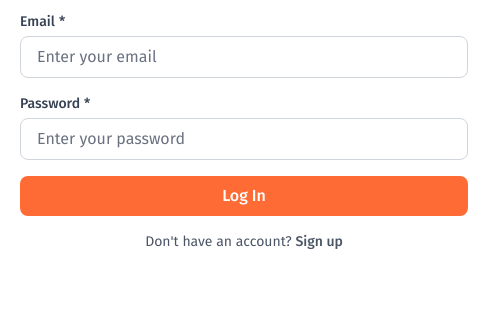
Test: LoginForm Component › Error Handling › should clear general error when user submits again
First submission - fails
Type "test@example.com" into the field labelled "Email*" at (244, 57), box [20,36,468,78]
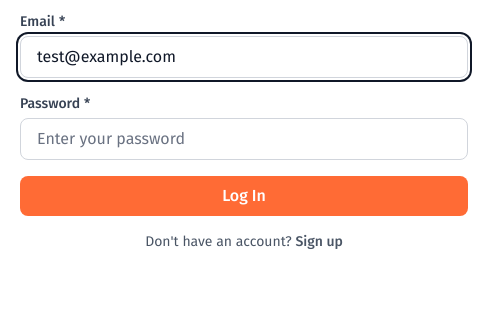
Type "password123" into the password field labelled "Password*" at (244, 139), box [20,118,468,160]
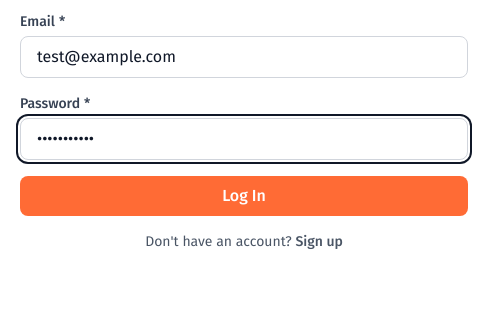
Click the button "Log In" at (244, 196), box [20,176,468,216]
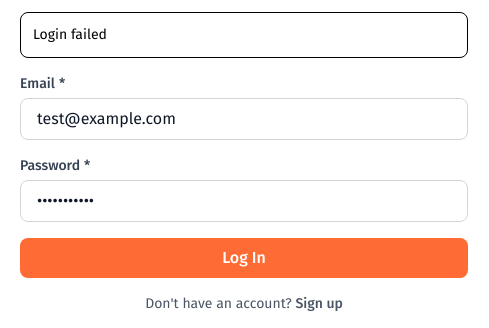
Result: the text "Login failed" is shown at [20,12,468,58]
Second submission - should clear error
Click the button "Log In" at (244, 258), box [20,238,468,278]
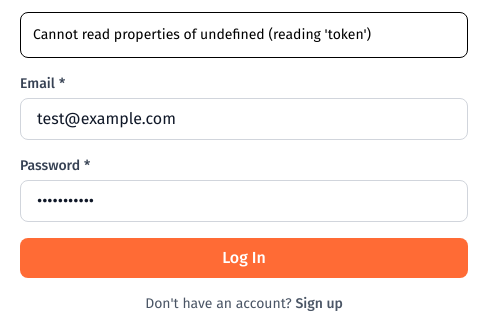
Result: the text "Login failed" is gone
